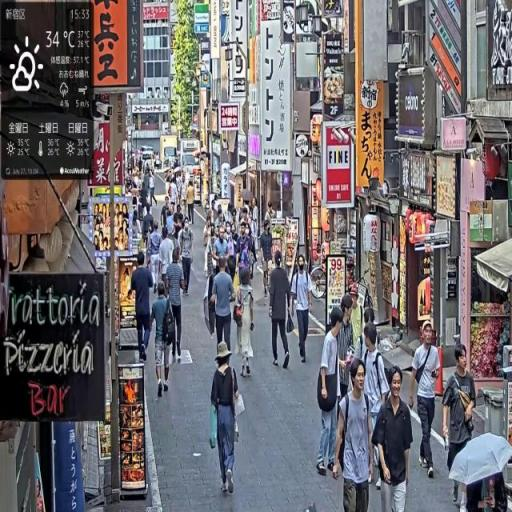person: (354, 320, 392, 493), (334, 359, 375, 512), (373, 367, 415, 512), (315, 303, 348, 484), (442, 343, 478, 504), (408, 319, 443, 480), (210, 341, 242, 496), (149, 276, 175, 399), (130, 250, 155, 366), (269, 254, 292, 374), (233, 266, 256, 378), (211, 256, 236, 358), (291, 255, 314, 365), (165, 245, 186, 365), (178, 215, 195, 298), (261, 221, 276, 301), (148, 223, 165, 293), (187, 178, 197, 227)
